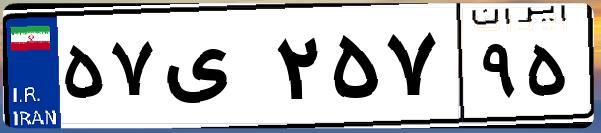2: (270, 28, 330, 110)
5: (330, 28, 385, 110), (57, 26, 110, 100), (525, 38, 570, 115)
7: (385, 28, 445, 110), (110, 28, 158, 98)
9: (475, 38, 525, 113)
ی: (158, 20, 270, 120)
